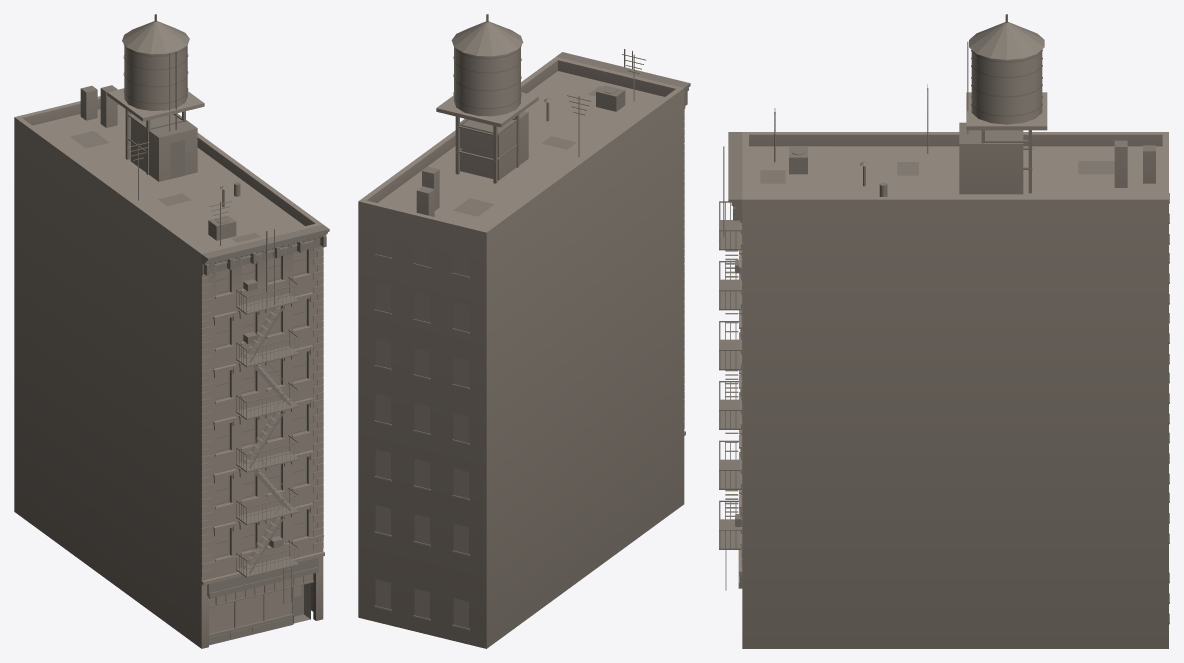
File: tenement_c.glb
3 renders of one model, left to right at view 1: azimuth 30°, elevation 25°; view 2: azimuth 150°, elevation 25°; view 3: azimuth 270°, elevation 25°, orthographic. The views are drawn at different scales.
Parts seen in each view (by area): view 1: tenement_c; view 2: tenement_c; view 3: tenement_c.
Boxes of the visible parts, left/top/right/bottom form: tenement_c: left=14, top=14, right=329, bottom=648; tenement_c: left=358, top=14, right=690, bottom=648; tenement_c: left=719, top=14, right=1169, bottom=648.
Size of the model in its own units: 7.5 by 31.35 by 21.15.
